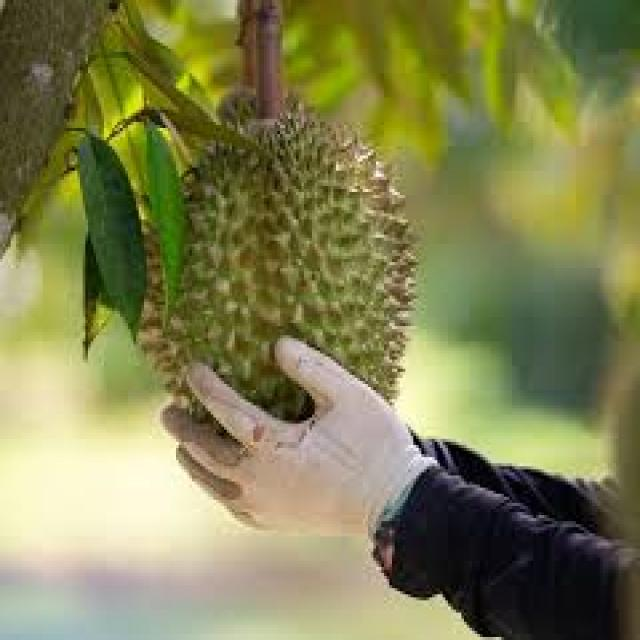immature: (130, 97, 430, 468)
